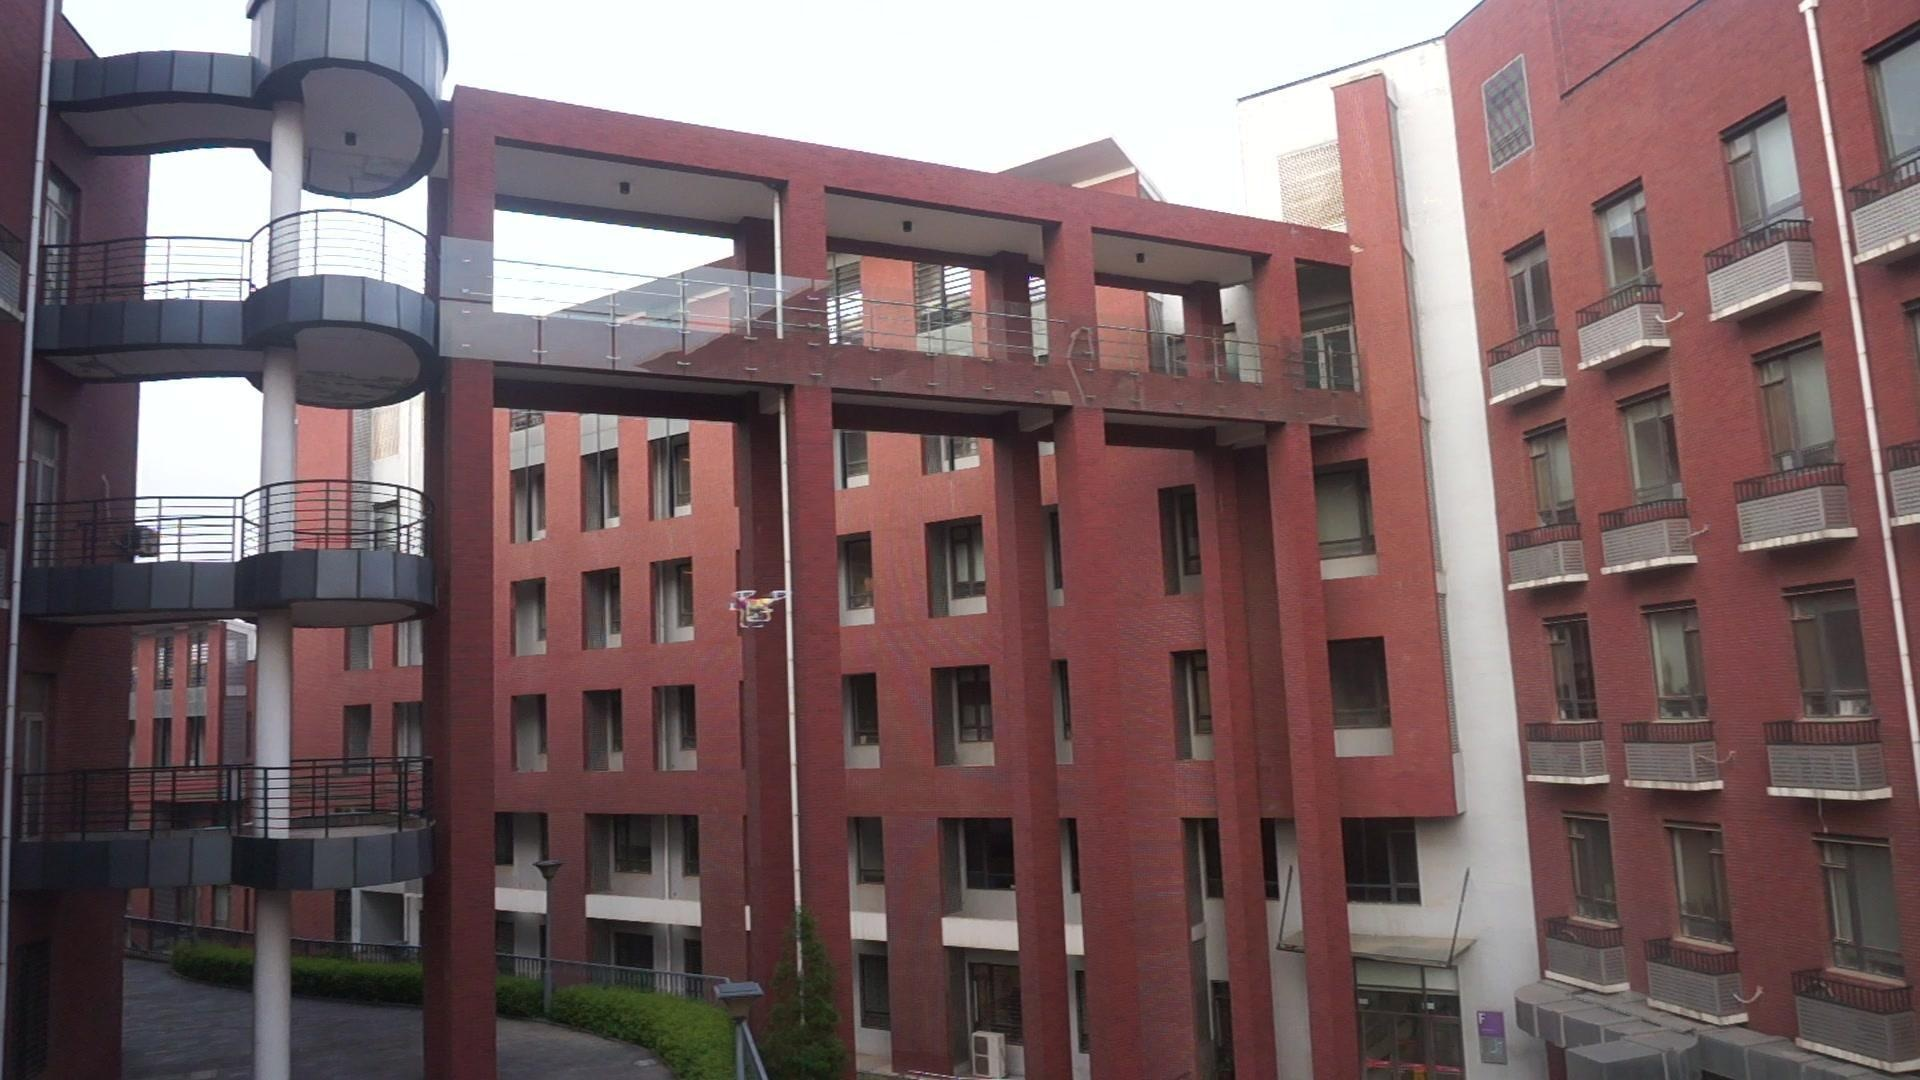UAV: (731, 589, 794, 629)
